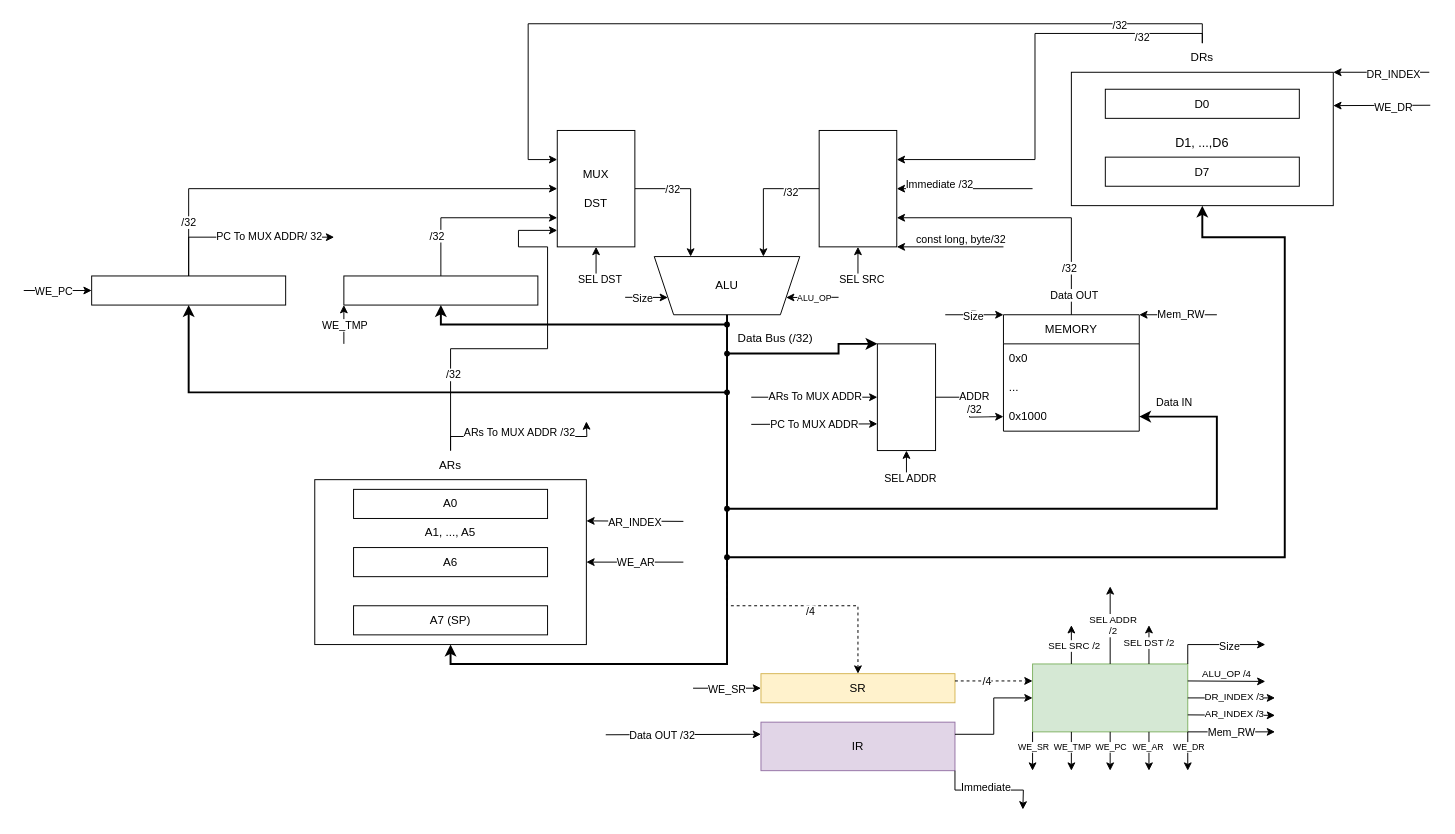
The diagram is 1455 pixels wide and 834 high, and some of its shapes have lost their labels. The shapes that lost their labels are listed below. From the top down, each one's centre as x and y in pixels, then its label:
the point at 857,188: MUX SRC
the point at 188,290: PC
the point at 440,290: Temp register
the point at 906,397: MUX ADDR
the point at 1110,697: Control Unit
